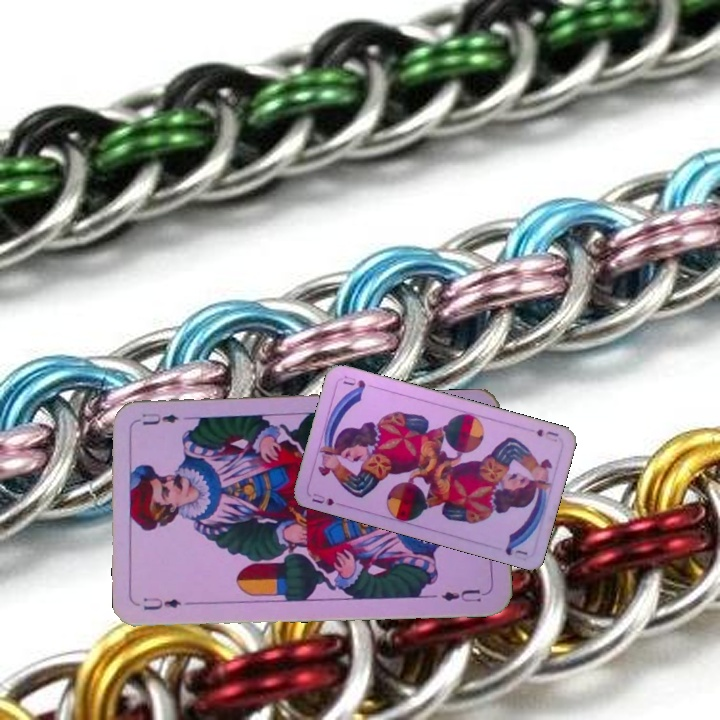EU: (139, 593, 183, 613)
SU: (308, 489, 347, 509), (532, 425, 561, 439)
